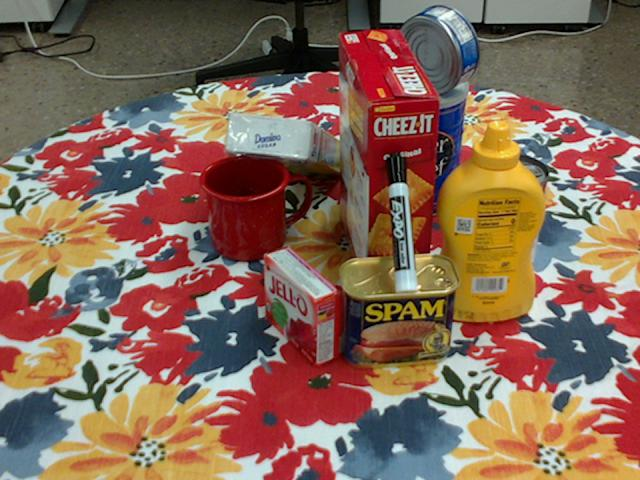cracker_box: (338, 32, 439, 304)
gelatin_box: (265, 245, 341, 365)
large_marker: (384, 151, 419, 292)
master_chef_can: (370, 64, 467, 219)
mug: (201, 154, 313, 261)
mustard_bottle: (431, 120, 545, 322)
potted_meat_can: (340, 253, 461, 368)
sugar_box: (226, 113, 348, 177)
tomato_soup_can: (472, 154, 549, 272)
tuna_fish_can: (394, 6, 478, 93)
